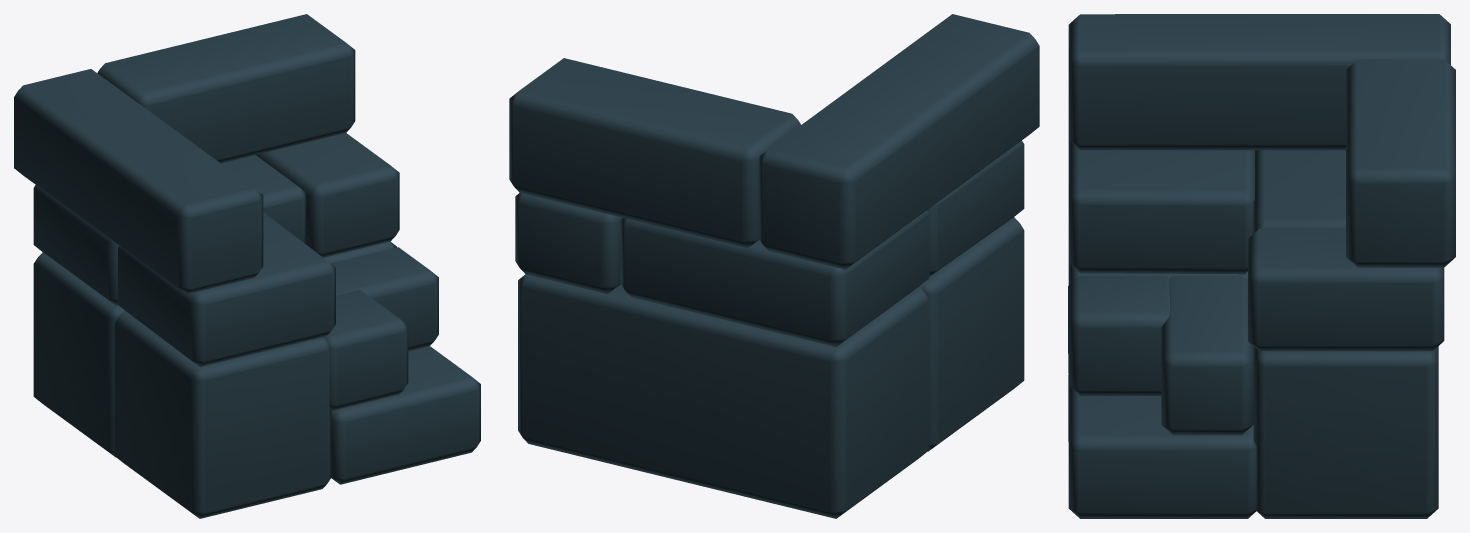
The model's file is stair_corner_concave_hue_4.fbx.
3 views of the same model, side by side, from view 1: azimuth 30°, elevation 25°; view 2: azimuth 150°, elevation 25°; view 3: azimuth 270°, elevation 25° (orthographic). The views are drawn at different scales.
Visible parts, largest first — view 1: stair_corner_concave_hue_4; view 2: stair_corner_concave_hue_4; view 3: stair_corner_concave_hue_4.
Part boxes in pixels (box(x1,y1,x2,y2)): stair_corner_concave_hue_4: box(14, 14, 480, 518); stair_corner_concave_hue_4: box(509, 14, 1039, 518); stair_corner_concave_hue_4: box(1068, 14, 1455, 518).
Bounding box in the file's own units: 105 × 105 × 105.
